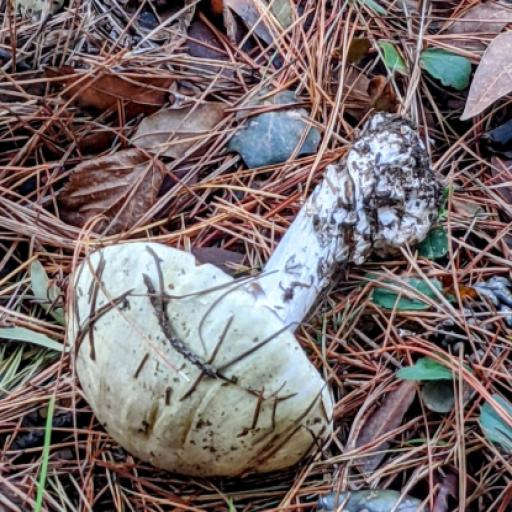Death Cap: (33, 102, 512, 512)
